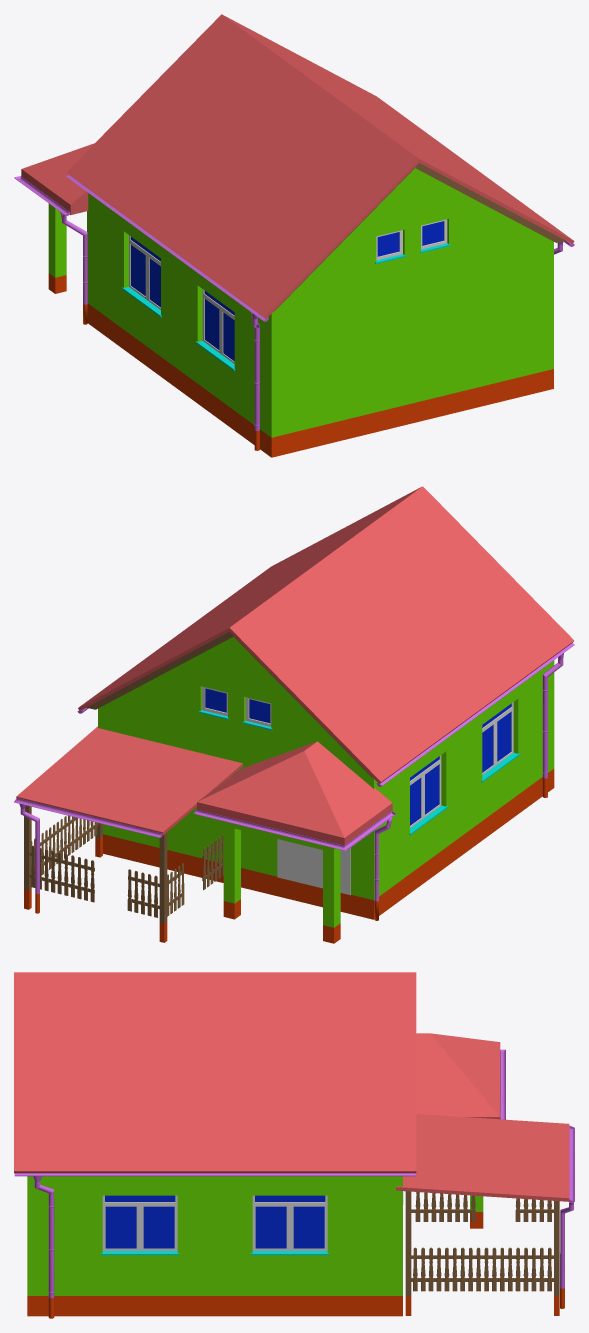
Rendered from krcma.fbx.
The picture shows the model from 3 angles, top to bottom: view 1: azimuth 30°, elevation 25°; view 2: azimuth 150°, elevation 25°; view 3: azimuth 270°, elevation 25°; orthographic projection. The views are drawn at different scales.
Parts seen in each view (by area): view 1: Cube.076; view 2: Cube.076; view 3: Cube.076.
Boxes of the visible parts, box(x1,y1,x2,y2) form: Cube.076: box(14, 14, 574, 457); Cube.076: box(14, 486, 574, 943); Cube.076: box(14, 972, 574, 1318).
Bounding box in the file's own units: 1703 × 1375 × 2546.
